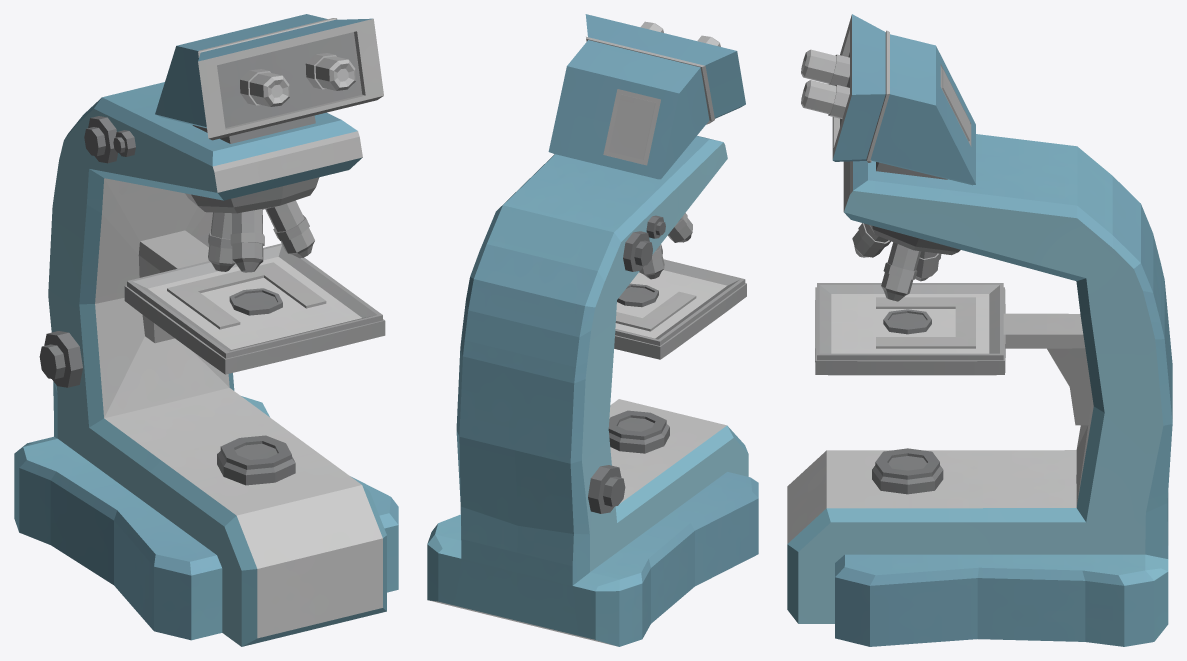
The model's file is microscope.glb.
3 renders of one model, left to right at view 1: azimuth 30°, elevation 25°; view 2: azimuth 150°, elevation 25°; view 3: azimuth 270°, elevation 25°, orthographic. The views are drawn at different scales.
Parts seen in each view (by area): view 1: microscope; view 2: microscope; view 3: microscope.
Boxes of the visible parts, x1=… form: microscope: x1=14, y1=14, x2=398, y2=646; microscope: x1=427, y1=14, x2=758, y2=646; microscope: x1=787, y1=14, x2=1172, y2=646.
Size of the model in its own units: 0.214 by 0.475 by 0.3093.
Materials: 1 (1 with a texture image).
